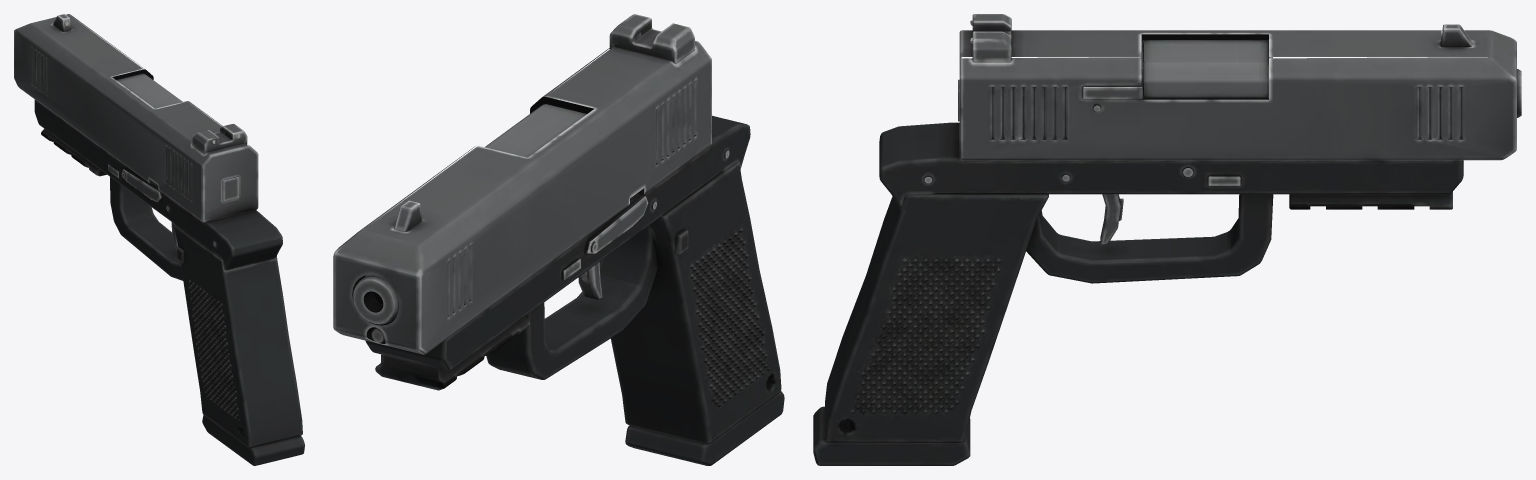
File: pistol-fp.glb
3 views of the same model, side by side, from view 1: azimuth 30°, elevation 25°; view 2: azimuth 150°, elevation 25°; view 3: azimuth 270°, elevation 25° (orthographic). The views are drawn at different scales.
Parts seen in each view (by area): view 1: pistol, slide-mesh, mag-mesh; view 2: pistol, slide-mesh, mag-mesh, trigger-mesh; view 3: pistol, slide-mesh, mag-mesh, trigger-mesh.
Part boxes in pixels (x1=…): pistol: x1=34, y1=73, x2=302, y2=447; slide-mesh: x1=14, y1=14, x2=258, y2=222; mag-mesh: x1=202, y1=415, x2=304, y2=465; pistol: x1=353, y1=104, x2=781, y2=443; slide-mesh: x1=333, y1=14, x2=711, y2=354; mag-mesh: x1=625, y1=391, x2=784, y2=465; trigger-mesh: x1=578, y1=262, x2=602, y2=299; pistol: x1=825, y1=40, x2=1521, y2=442; slide-mesh: x1=958, y1=14, x2=1516, y2=160; mag-mesh: x1=813, y1=406, x2=970, y2=465; trigger-mesh: x1=1100, y1=194, x2=1123, y2=245.
Bounding box in the file's own units: 0.1445 × 0.6578 × 1.
1 material, 1 textured.
